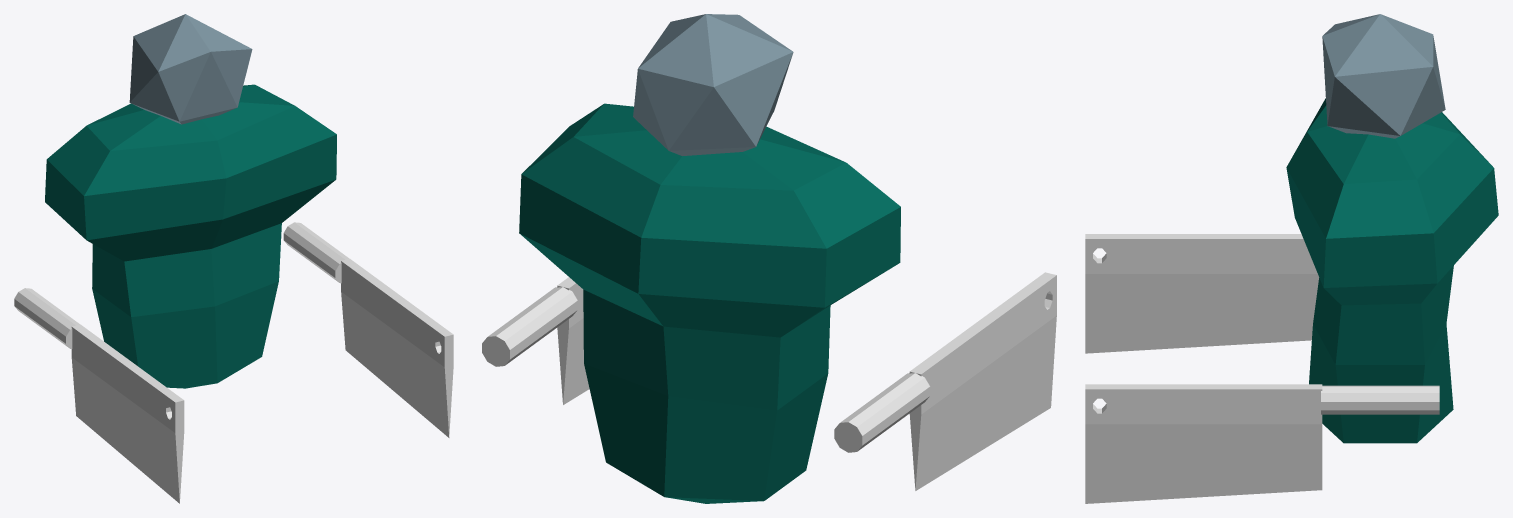
The model's file is Berserk.fbx.
3 renders of one model, left to right at view 1: azimuth 30°, elevation 25°; view 2: azimuth 150°, elevation 25°; view 3: azimuth 270°, elevation 25°, orthographic. The views are drawn at different scales.
Parts seen in each view (by area): view 1: Body, Knife Right, Knife Left, Head; view 2: Body, Knife Right, Head, Knife Left; view 3: Body, Knife Left, Knife Right, Head.
Boxes of the visible parts, left/top/right/bottom form: Body: left=45, top=84, right=336, bottom=388; Knife Right: left=14, top=288, right=184, bottom=503; Knife Left: left=283, top=222, right=453, bottom=437; Head: left=129, top=14, right=252, bottom=124; Body: left=519, top=103, right=900, bottom=503; Knife Right: left=834, top=272, right=1056, bottom=490; Head: left=633, top=14, right=793, bottom=155; Knife Left: left=482, top=277, right=589, bottom=404; Body: left=1286, top=98, right=1498, bottom=443; Knife Left: left=1085, top=384, right=1439, bottom=503; Knife Right: left=1085, top=234, right=1319, bottom=353; Head: left=1322, top=14, right=1445, bottom=138.
Bounding box in the file's own units: 130 × 139 × 159.
